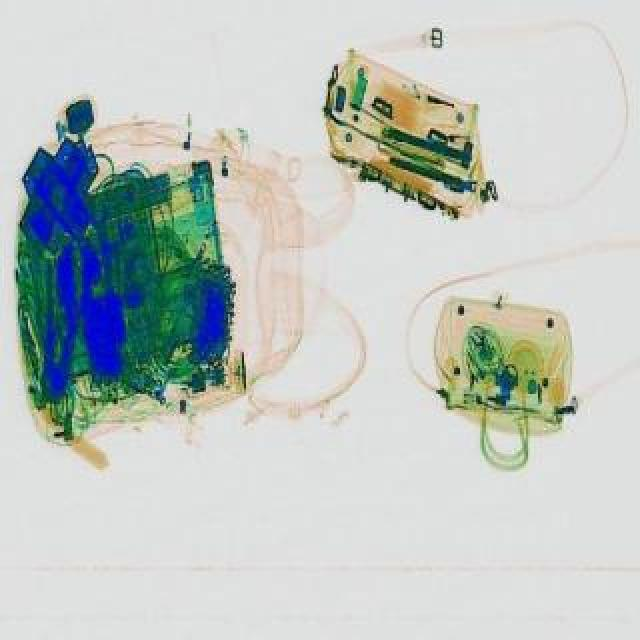scissors: (86, 208, 122, 298)
wrench: (32, 260, 92, 406)
